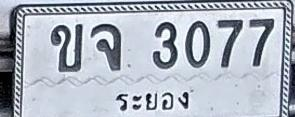0: (185, 20, 210, 68)
3: (152, 21, 177, 69)
7: (216, 19, 242, 68), (249, 18, 274, 66)
A02: (50, 24, 82, 72)
A08: (90, 23, 122, 71)
RYG: (111, 85, 191, 112)
